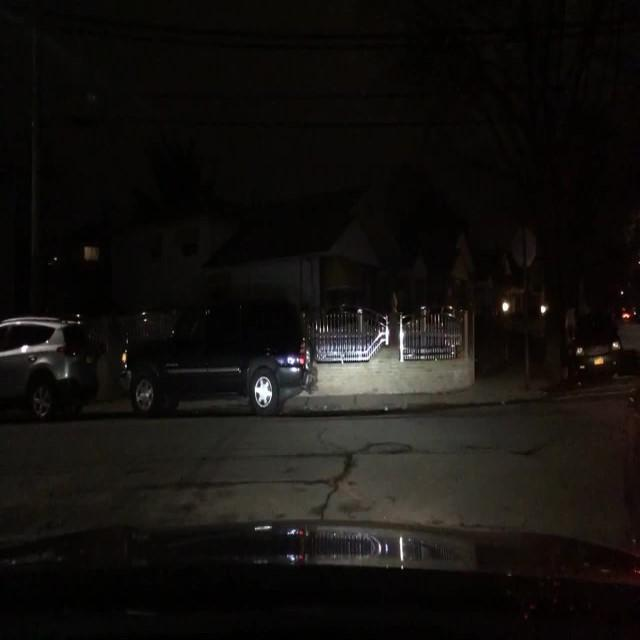normal: (98, 281, 323, 430)
